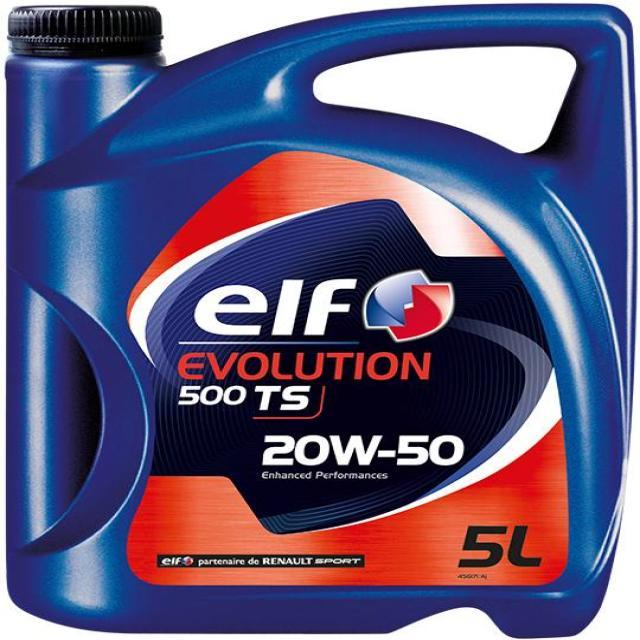motor_oil: (1, 2, 635, 640)
